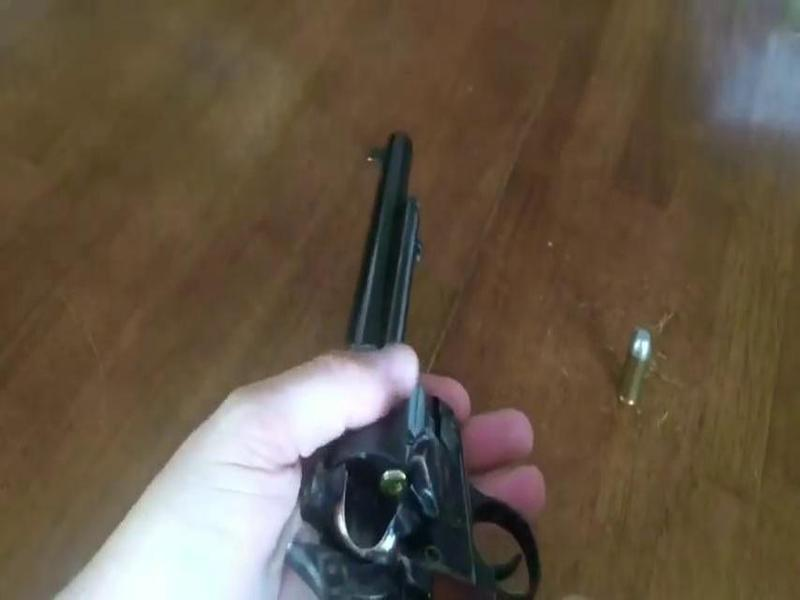Revolver: (297, 122, 507, 600)
